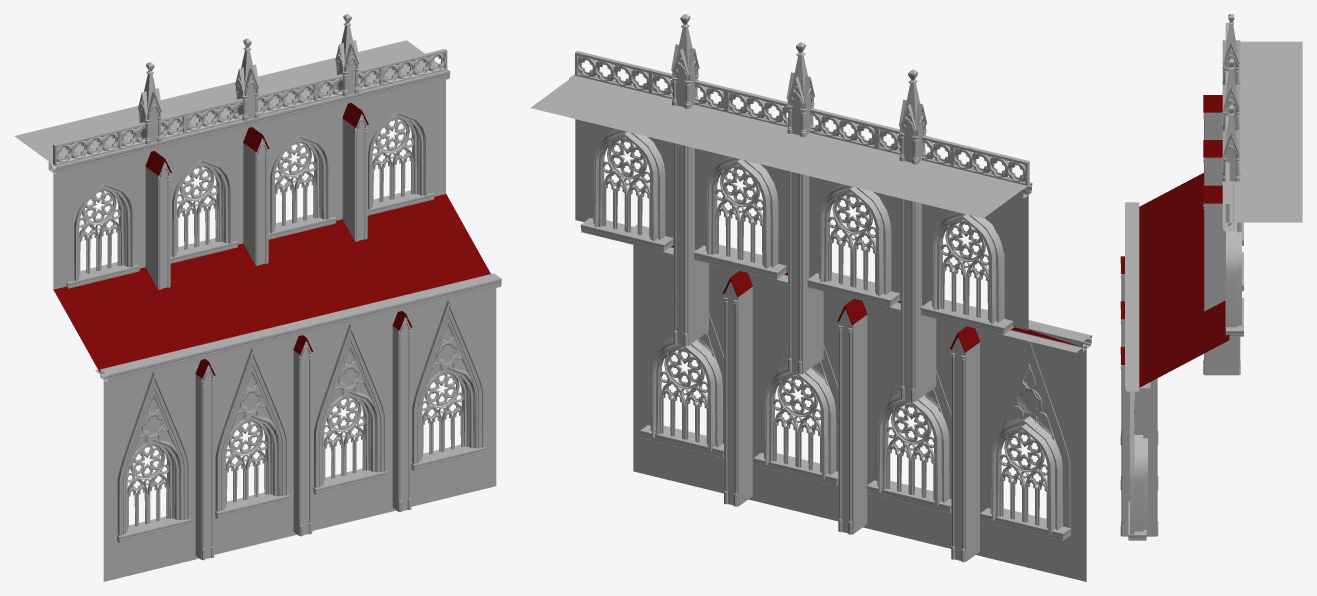
The model's file is hall_008.glb.
3 views of the same model, side by side, from view 1: azimuth 30°, elevation 25°; view 2: azimuth 150°, elevation 25°; view 3: azimuth 270°, elevation 25° (orthographic). The views are drawn at different scales.
Parts seen in each view (by area): view 1: hall_008; view 2: hall_008; view 3: hall_008.
Part boxes in pixels (x1,y1,x2,y2): hall_008: (14, 14, 501, 581); hall_008: (530, 14, 1091, 581); hall_008: (1120, 14, 1302, 540).
Bounding box in the file's own units: 4.24 × 4.71 × 1.8.
